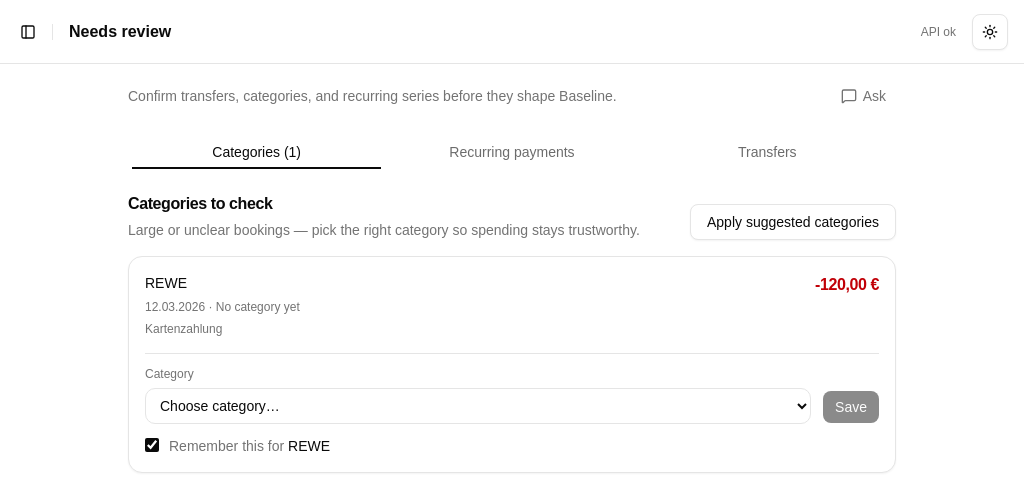
Test: Needs review inbox › corrects a classification and clears it from the queue
Expected: the heading "Categories to check" is shown, [128,195,272,212]
Expected: the text "REWE" in the row of "-120,00 €" is shown, [145,275,187,291]
Select "Groceries" in the dropdown labelled "Category" at (478, 406), box [145,388,811,424]
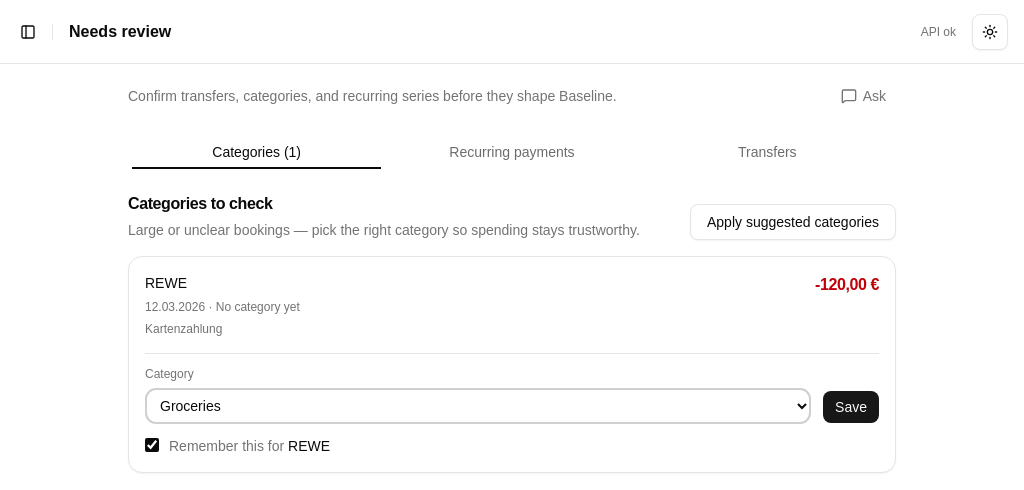
Expected: the text "Remember this for REWE" is shown, [169,436,330,456]
Click the button "Save" at (851, 407), box [823,391,879,423]
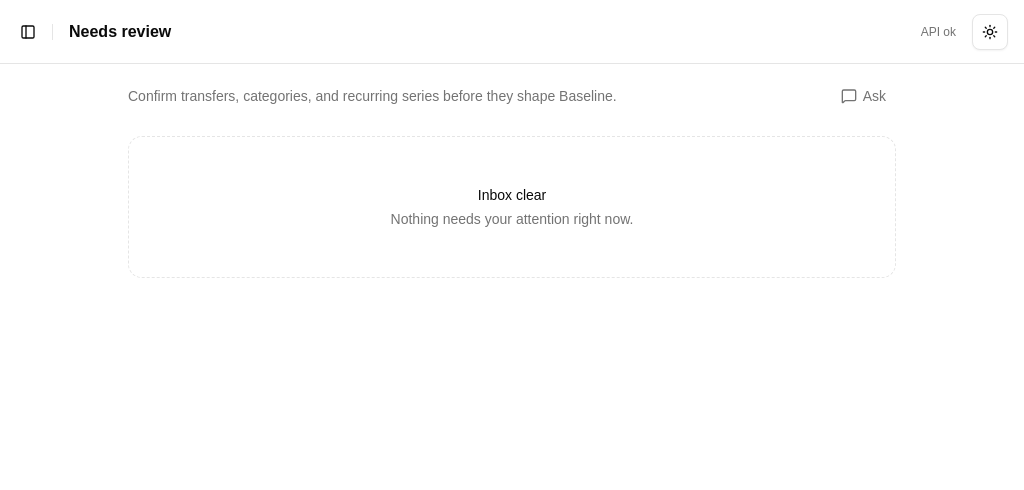
Expected: the text "Inbox clear" is shown, [478,187,546,203]
